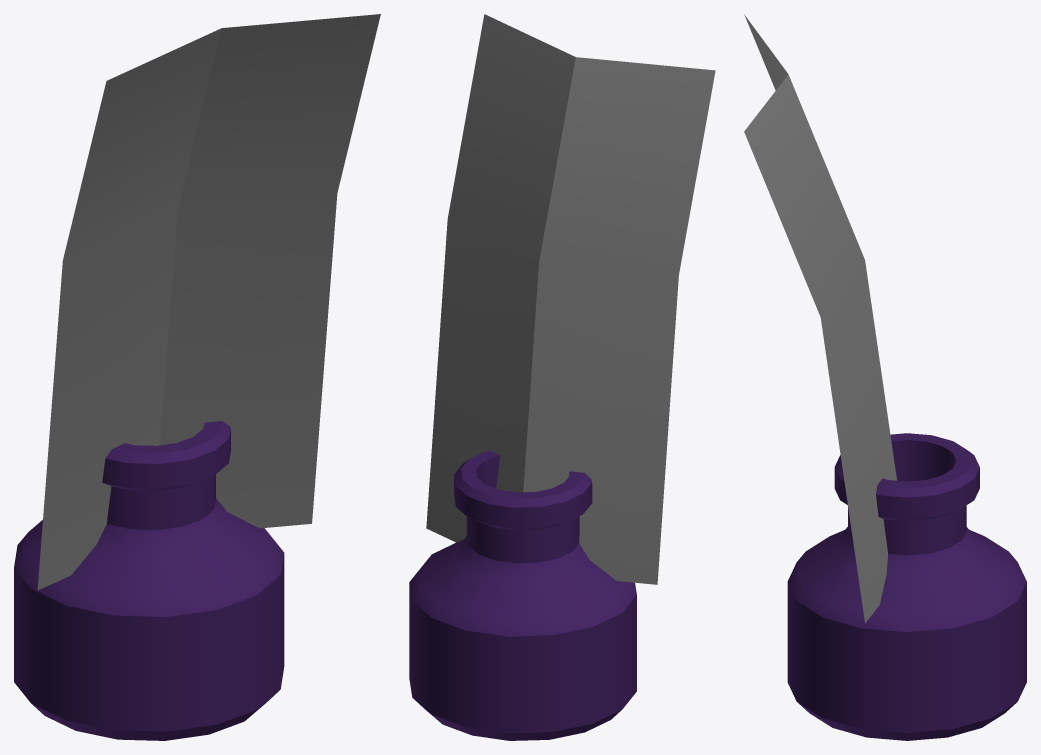
File: SM_Feather.FBX
3 renders of one model, left to right at view 1: azimuth 30°, elevation 25°; view 2: azimuth 150°, elevation 25°; view 3: azimuth 270°, elevation 25°, orthographic. The views are drawn at different scales.
Visible parts, largest first — view 1: SM_Feather_LOD0; view 2: SM_Feather_LOD0; view 3: SM_Feather_LOD0.
Part boxes in pixels (bbox=[...]): SM_Feather_LOD0: bbox=[14, 14, 380, 740]; SM_Feather_LOD0: bbox=[409, 14, 715, 740]; SM_Feather_LOD0: bbox=[744, 14, 1026, 740].
Size of what is drawn, in the model's own units: 16.46 by 40.71 by 16.72.
